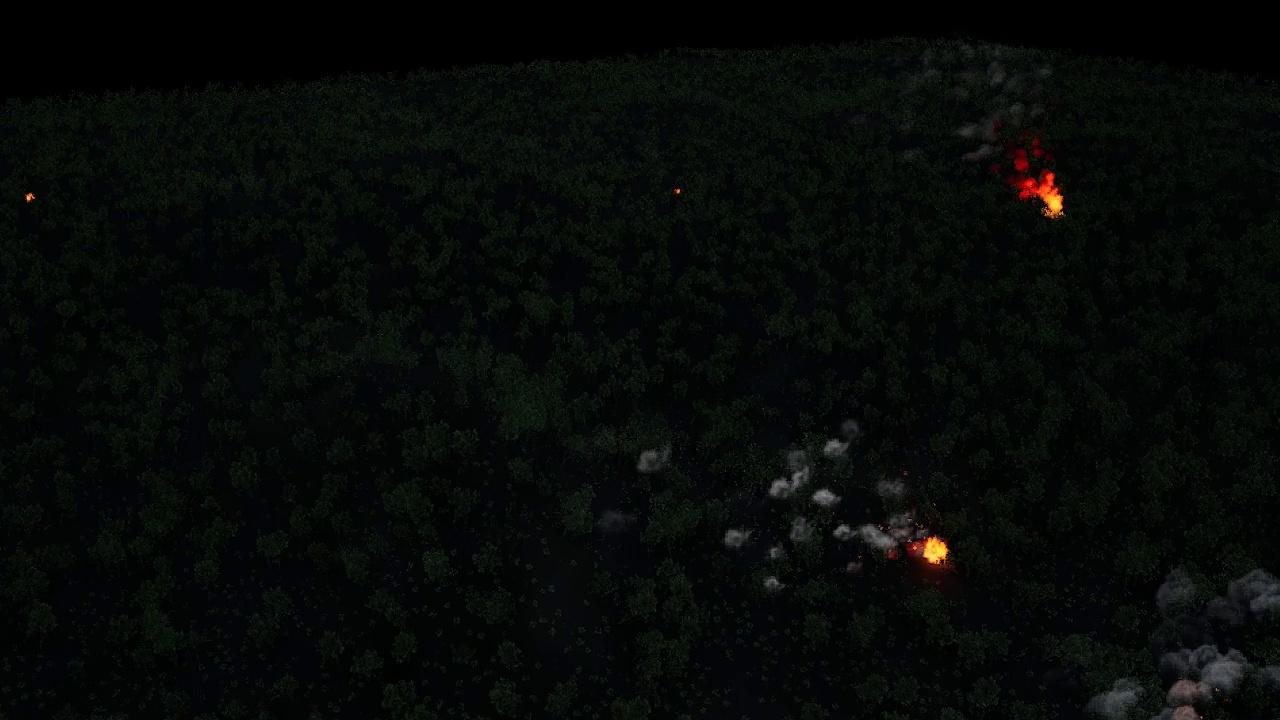fire: (1015, 165, 1062, 221), (917, 538, 948, 566), (21, 188, 37, 201), (902, 470, 910, 477), (675, 188, 682, 195)
smoke: (723, 418, 926, 573), (1074, 568, 1279, 720), (899, 41, 1060, 170), (635, 444, 673, 476), (593, 509, 633, 539), (764, 575, 784, 594)
